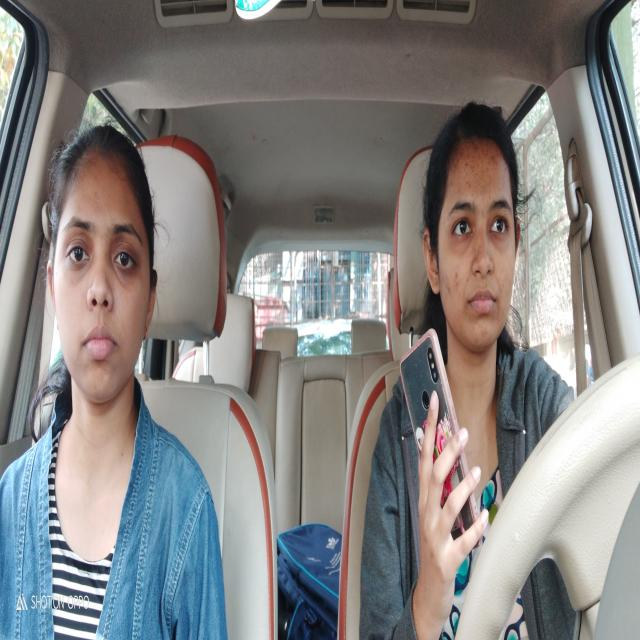mobile: (396, 321, 476, 564)
person: (34, 118, 173, 392), (419, 93, 534, 372)
